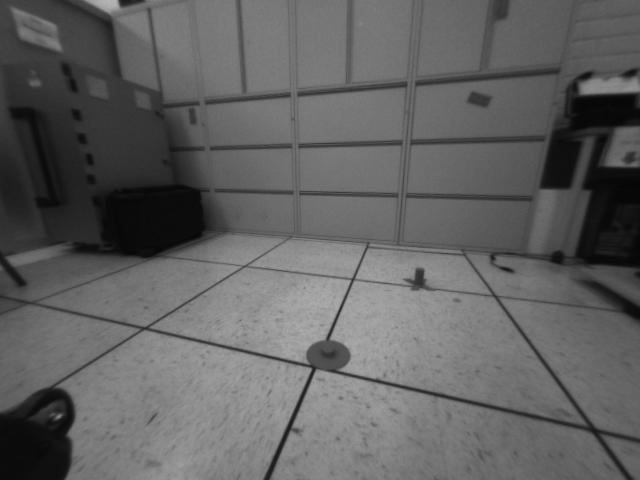X: (403, 267, 433, 291)
